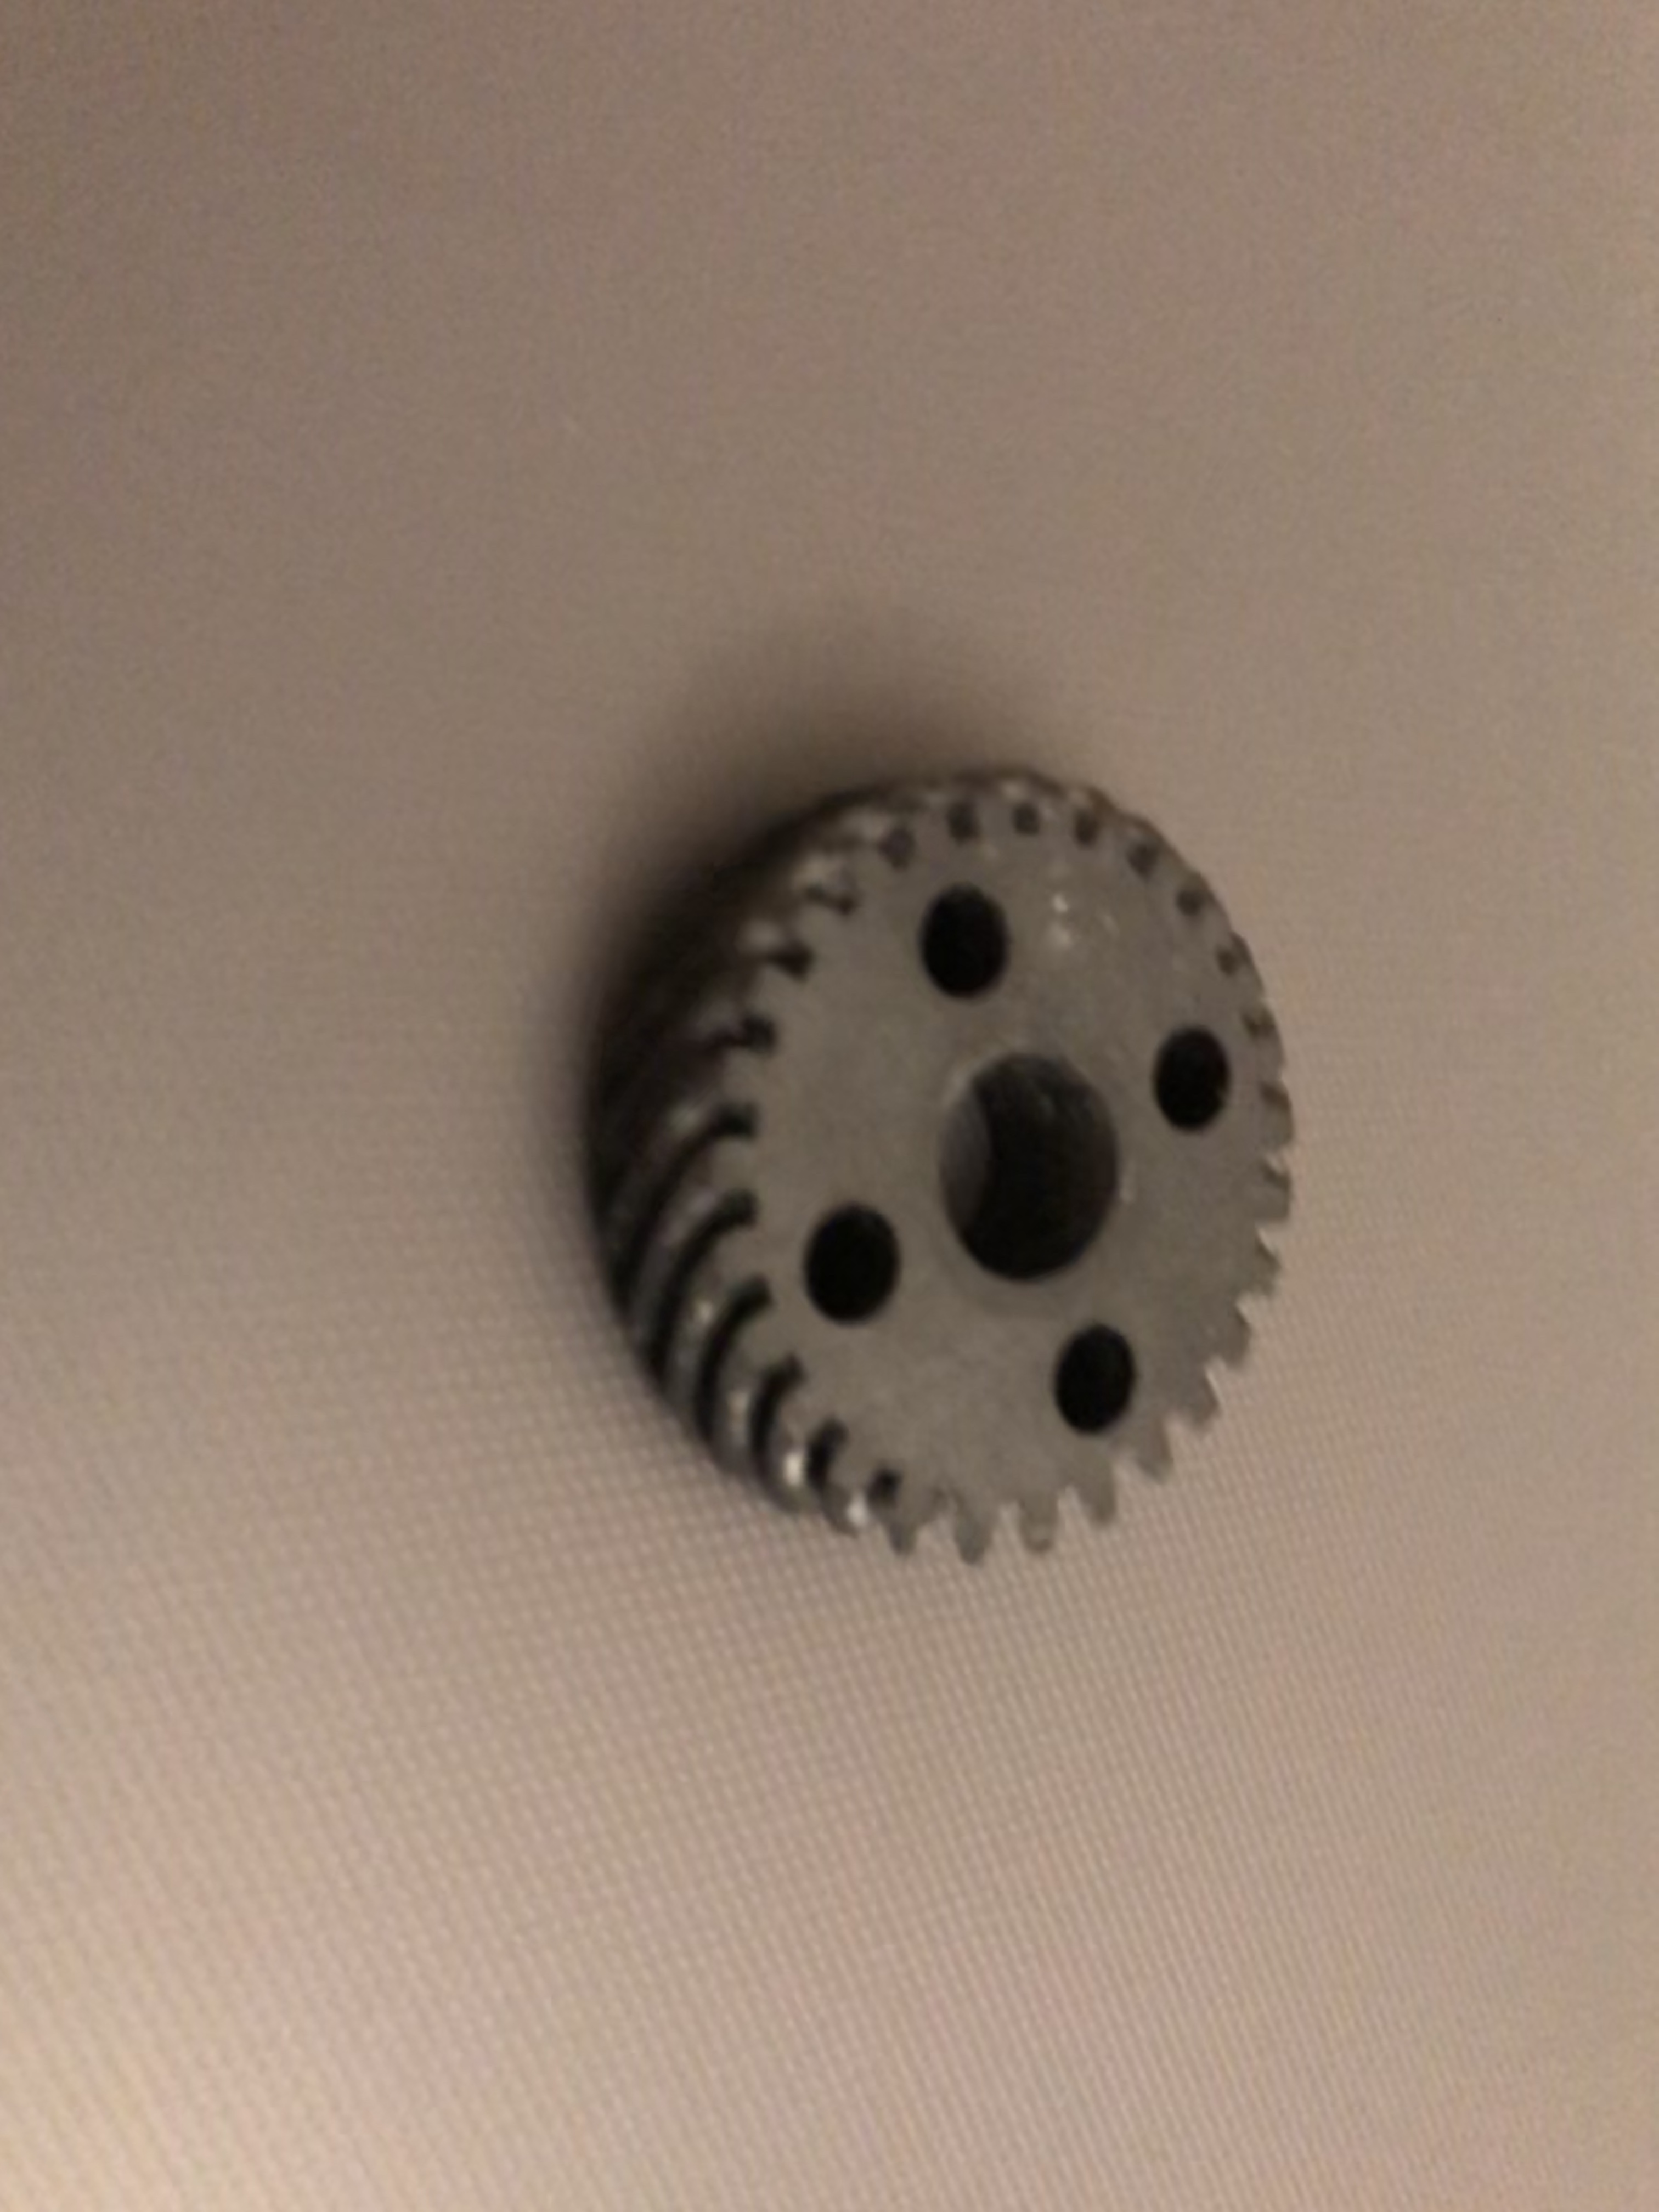Wheel: (580, 752, 1312, 1585)
